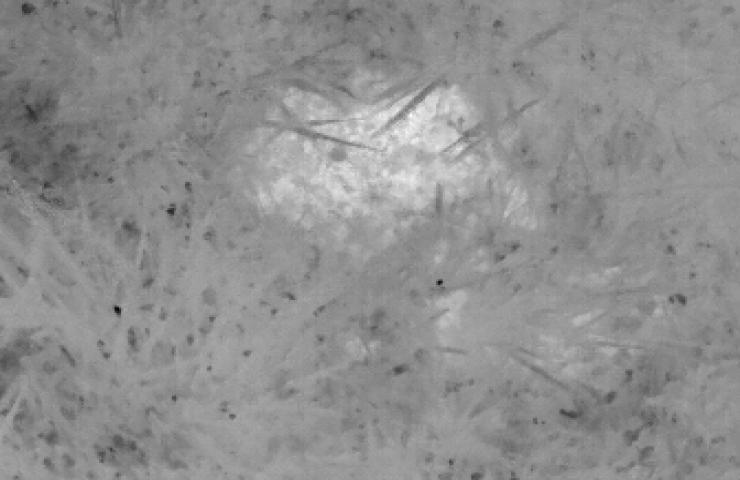landmines: (269, 80, 485, 231)
